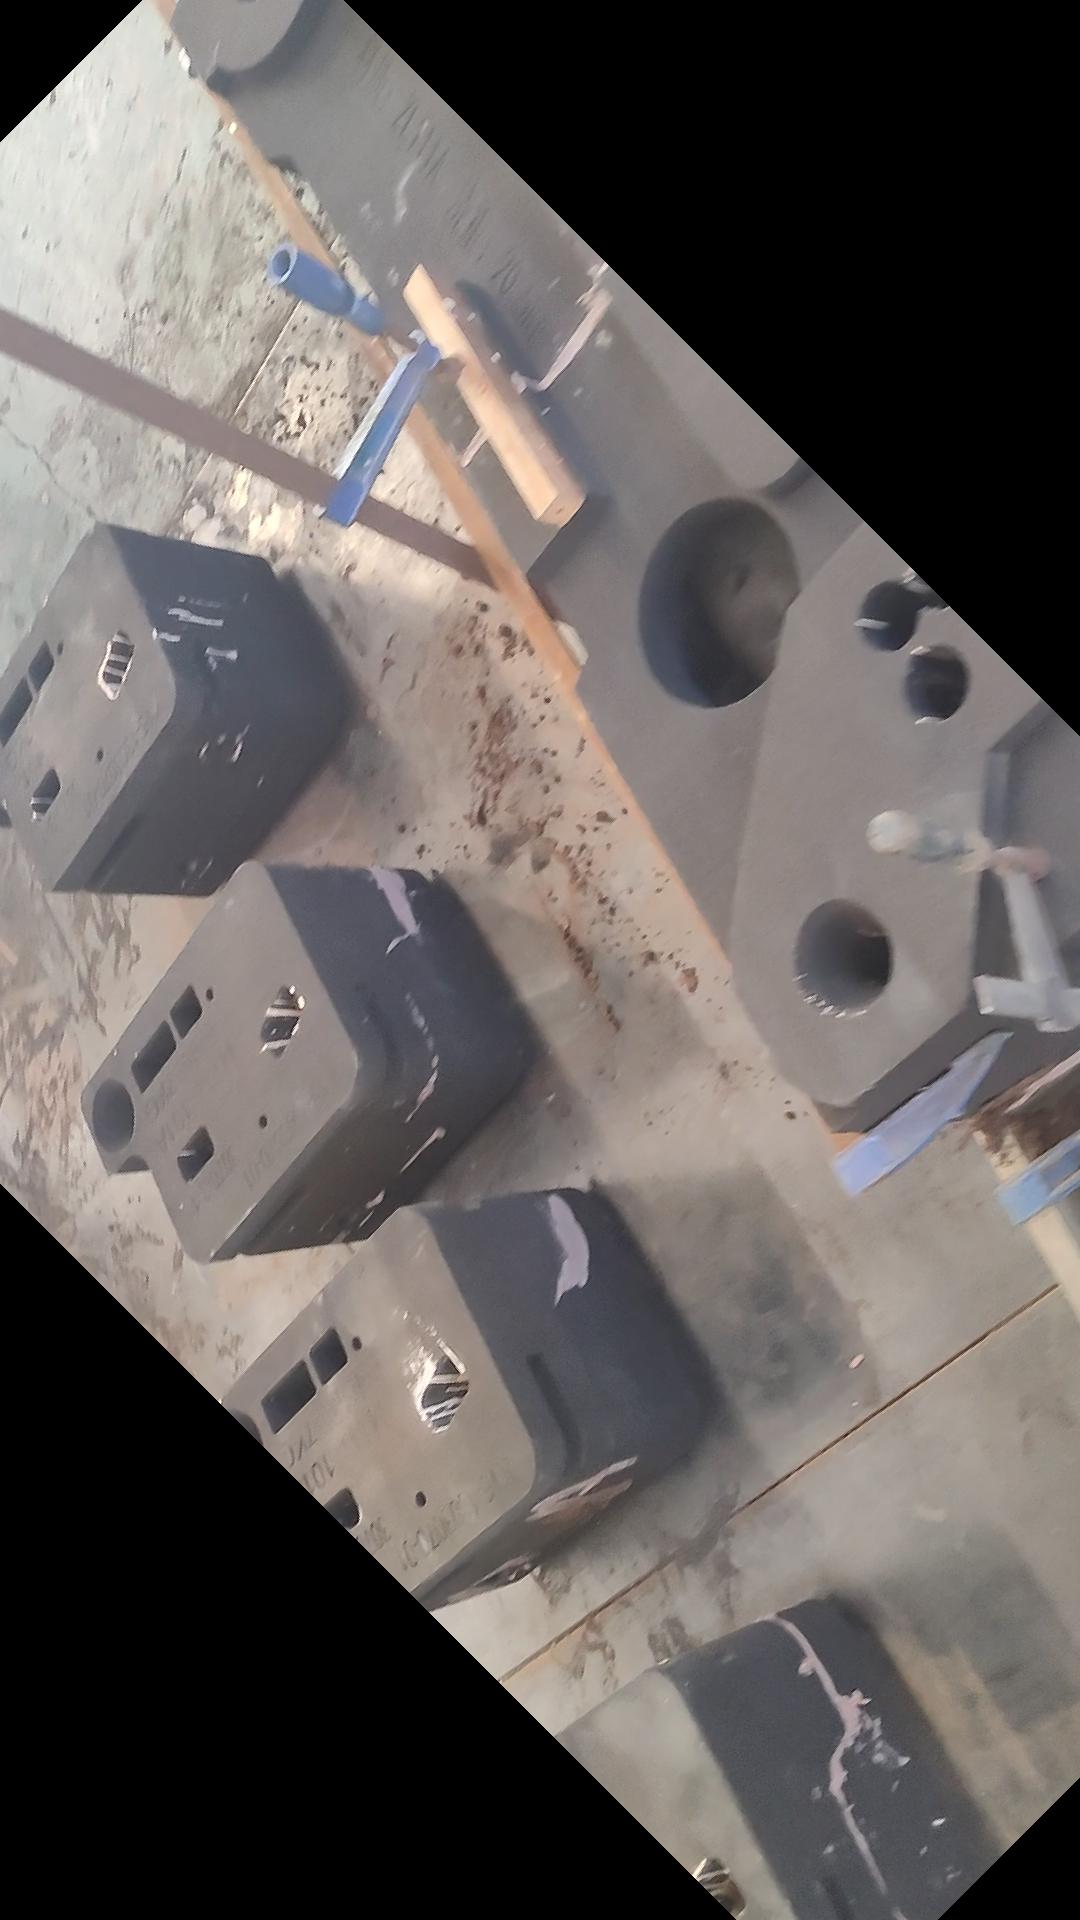pouring hole: (791, 897, 894, 1019), (91, 1079, 136, 1154), (218, 1408, 262, 1455)
